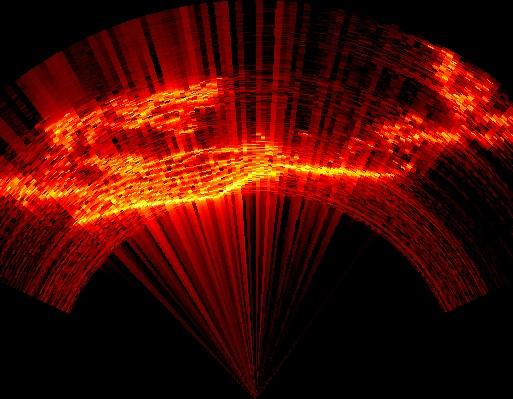shipwreck: (8, 51, 512, 220)
